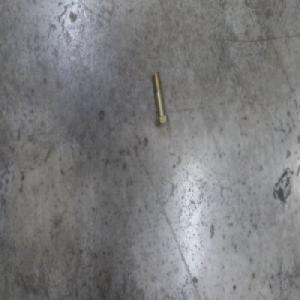Bolt: (152, 73, 169, 131)
